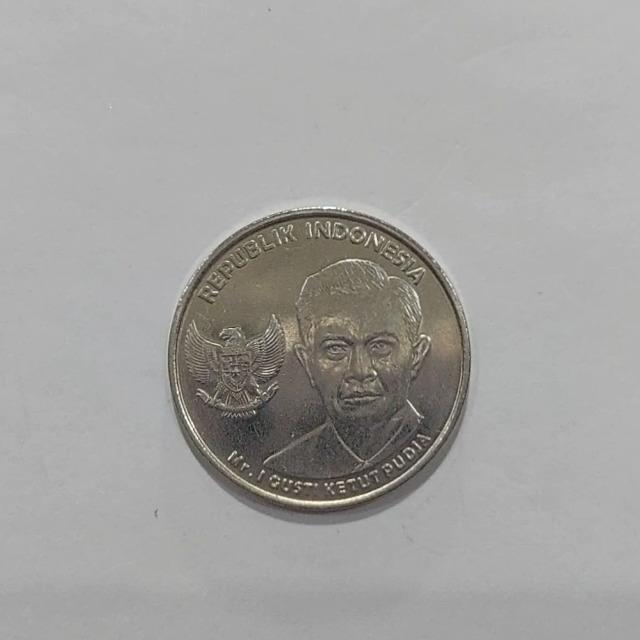Rp100: (166, 205, 473, 515), (257, 255, 435, 481), (180, 311, 287, 434)
